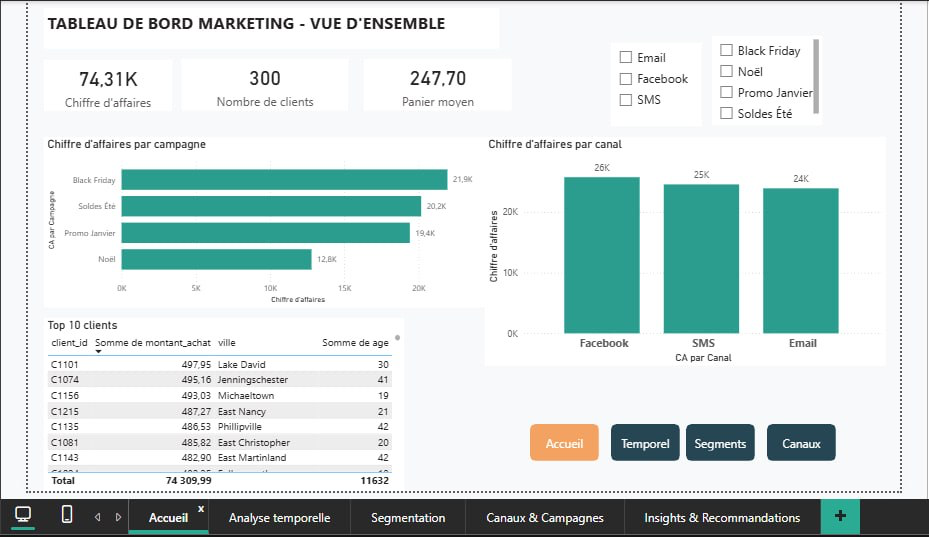

The page's visual inventory and layout, read from the dashboard file:
{"tool":"powerbi","page":{"name":"Accueil","canvas":[1280,720],"ordinal":0},"visuals":[{"type":"card","title":"Revenus Total","fields":{"Values":["Sheet1.CA_Total"]},"box":[23.5,86.7,188.1,74.9],"z":0},{"type":"card","title":"Nombre clients","fields":{"Values":["Sheet1.Nb_clients"]},"box":[226.3,85.2,243.9,76.4],"z":1000},{"type":"card","title":"Panier moyen","fields":{"Values":["Sheet1.Panier_Moyen"]},"box":[493.7,85.2,217.5,76.4],"z":2000},{"type":"columnChart","fields":{"Category":["Sheet1.canal"],"Y":["Sheet1.CA_Total"]},"box":[671.5,199.8,589.2,336.5],"z":3000},{"type":"clusteredBarChart","fields":{"Category":["Sheet1.campagne"],"Y":["Sheet1.CA_Total"]},"box":[23.5,199.8,648,249.8],"z":4000},{"type":"tableEx","title":"Top 10 clients","fields":{"Values":["Sheet1.client_id","Sum(Sheet1.montant_achat)","Sheet1.ville","Sum(Sheet1.age)"]},"box":[23.5,465.8,529,254.2],"z":5000},{"type":"textbox","box":[23.5,10.3,668.6,60.2],"z":6000},{"type":"slicer","fields":{"Values":["Sheet1.canal"]},"box":[856.1,62.1,132.6,121.5],"z":7000},{"type":"slicer","fields":{"Values":["Sheet1.campagne"]},"box":[1005.1,51.4,161.6,130.8],"z":8000},{"type":"shape","box":[737.6,621.6,101.4,54.4],"z":9000},{"type":"shape","box":[856.7,621.6,101.4,54.4],"z":10000},{"type":"shape","box":[966.9,621.6,101.4,54.4],"z":11000},{"type":"shape","box":[1085.9,621.6,101.4,54.4],"z":12000}]}

Visuals, with their boxes on the page's 1280x720 design canvas (x1, y1, x2, y2). These are canvas units, not pixel positions in the 929x537 screenshot, which may show the page scaled, cropped or inside an application window:
"Revenus Total" card: <box>24,87,212,162</box>
"Nombre clients" card: <box>226,85,470,162</box>
"Panier moyen" card: <box>494,85,711,162</box>
columnChart - Sheet1.canal x Sheet1.CA_Total: <box>672,200,1261,536</box>
clusteredBarChart - Sheet1.campagne x Sheet1.CA_Total: <box>24,200,672,450</box>
"Top 10 clients" tableEx: <box>24,466,552,720</box>
textbox: <box>24,10,692,70</box>
slicer - Sheet1.canal: <box>856,62,989,184</box>
slicer - Sheet1.campagne: <box>1005,51,1167,182</box>
shape: <box>738,622,839,676</box>
shape: <box>857,622,958,676</box>
shape: <box>967,622,1068,676</box>
shape: <box>1086,622,1187,676</box>
